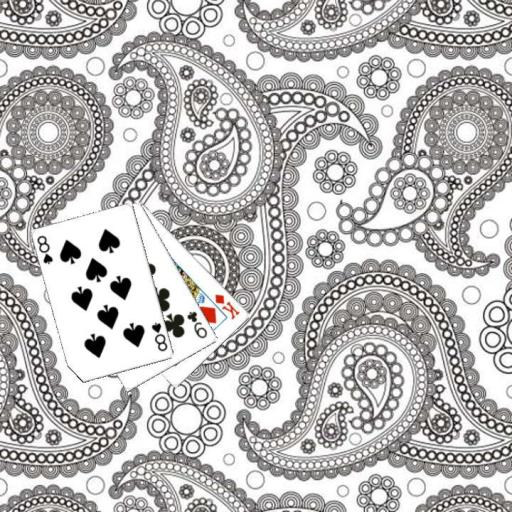8S: (34, 232, 55, 266), (149, 319, 169, 353)
9C: (184, 308, 209, 340)
KD: (212, 291, 241, 321)
